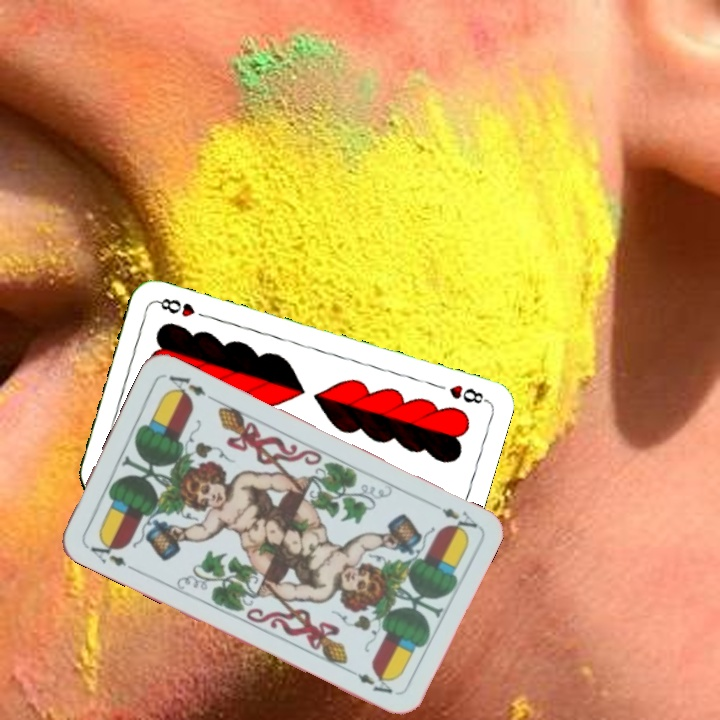EA: (81, 535, 137, 573), (437, 504, 480, 537)
H8: (445, 380, 489, 407)
